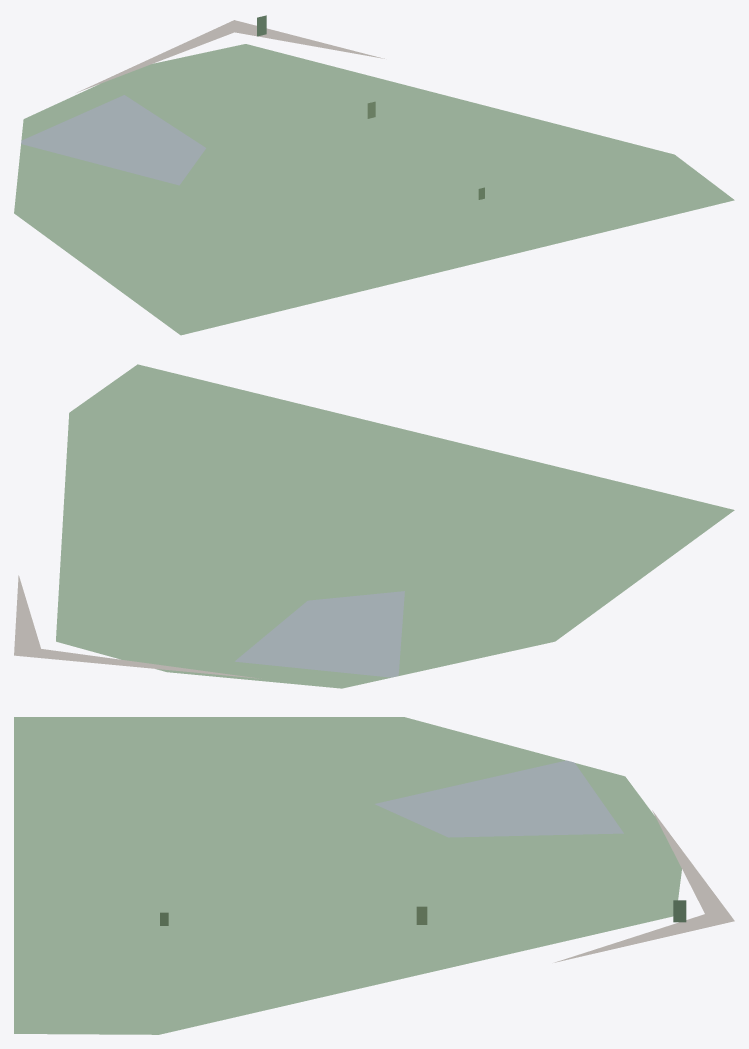
The picture shows the model from 3 angles, top to bottom: view 1: azimuth 30°, elevation 25°; view 2: azimuth 150°, elevation 25°; view 3: azimuth 270°, elevation 25°; orthographic projection. The views are drawn at different scales.
Bounding box in the file's own units: 175 × 6.91 × 168.
